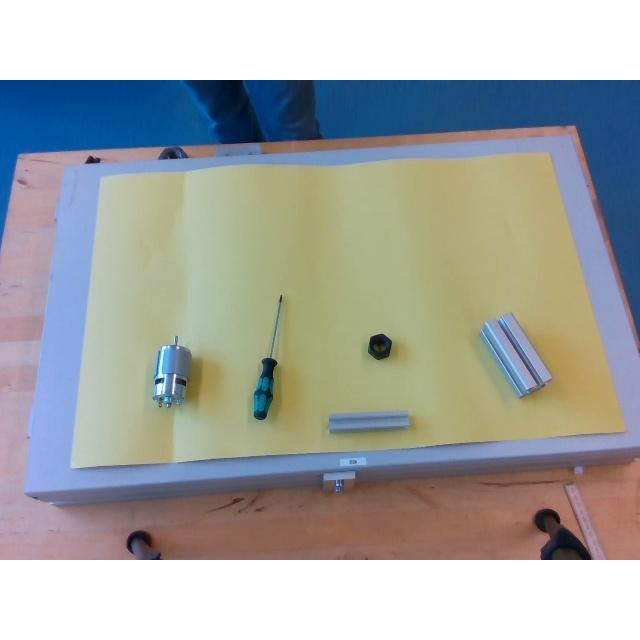F20_20_G: (330, 410, 410, 430)
M20: (367, 334, 391, 358)
Motor2: (152, 338, 190, 407)
S40_40_G: (481, 312, 552, 396)
Screwdriver: (253, 294, 283, 411)
